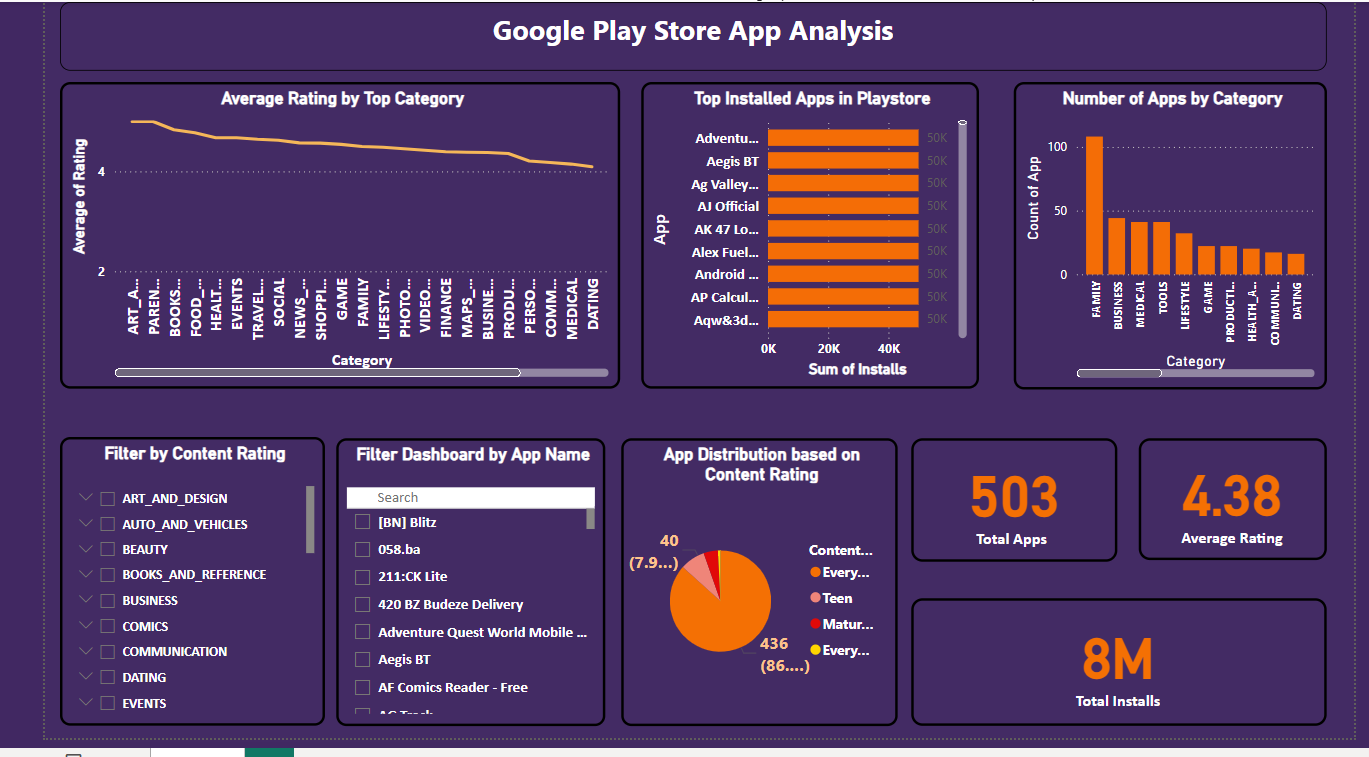

The dashboard page shown, as its layout file describes it:
{"tool":"powerbi","page":{"name":"Page 1","canvas":[1280,720],"ordinal":0},"visuals":[{"type":"barChart","title":"Top Installed Apps in Playstore","fields":{"Y":["Sum(Cleaned_playstore_data (2).Installs)"],"Category":["Cleaned_playstore_data (2).App"]},"box":[583.3,78.3,330,300],"z":0},{"type":"columnChart","title":"Number of Apps by Category","fields":{"Category":["Cleaned_playstore_data (2).Category"],"Y":["CountNonNull(Cleaned_playstore_data (2).App)"]},"box":[948.2,78.2,306,300.5],"z":1000},{"type":"lineChart","title":"Average Rating by Top Category","fields":{"Category":["Cleaned_playstore_data (2).Category"],"Y":["Avg(Cleaned_playstore_data (2).Rating)"]},"box":[15,78.3,548.3,300],"z":2000},{"type":"pieChart","title":"App Distribution based on  Content Rating","fields":{"Category":["Cleaned_playstore_data (2).Content Rating"],"Y":["CountNonNull(Cleaned_playstore_data (2).App)"]},"box":[564,426.8,270.3,281.3],"z":3000},{"type":"card","fields":{"Values":["CountNonNull(Cleaned_playstore_data (2).App)"]},"box":[848,426.8,201.7,120.8],"z":4000},{"type":"card","fields":{"Values":["Avg(Cleaned_playstore_data (2).Rating)"]},"box":[1070.3,426.8,183.9,119.4],"z":5000},{"type":"card","fields":{"Values":["Sum(Cleaned_playstore_data (2).Installs)"]},"box":[848,583.2,406.2,124.9],"z":6000},{"type":"slicer","title":"Filter by Content Rating","fields":{"Values":["Cleaned_playstore_data (2).Category","Cleaned_playstore_data (2).Content Rating"]},"box":[15.1,425.4,259.3,282.7],"z":7000},{"type":"slicer","title":"Filter Dashboard by App Name","fields":{"Values":["Cleaned_playstore_data (2).App"]},"box":[285.4,426.8,263.5,281.3],"z":8000},{"type":"textbox","box":[15.1,0,1239.1,67.2],"z":9000}]}

Visuals, with their boxes in screenshot pixels (x1, y1, x2, y2), scaled from the page's 1280x720 canvas onto the 1369x757 screenshot:
"Top Installed Apps in Playstore" barChart: {"left": 624, "top": 82, "right": 977, "bottom": 398}
"Number of Apps by Category" columnChart: {"left": 1014, "top": 82, "right": 1341, "bottom": 398}
"Average Rating by Top Category" lineChart: {"left": 16, "top": 82, "right": 602, "bottom": 398}
"App Distribution based on  Content Rating" pieChart: {"left": 603, "top": 449, "right": 892, "bottom": 744}
card - CountNonNull(Cleaned_playstore_data (2).App): {"left": 907, "top": 449, "right": 1123, "bottom": 576}
card - Avg(Cleaned_playstore_data (2).Rating): {"left": 1145, "top": 449, "right": 1341, "bottom": 574}
card - Sum(Cleaned_playstore_data (2).Installs): {"left": 907, "top": 613, "right": 1341, "bottom": 744}
"Filter by Content Rating" slicer: {"left": 16, "top": 447, "right": 293, "bottom": 744}
"Filter Dashboard by App Name" slicer: {"left": 305, "top": 449, "right": 587, "bottom": 744}
textbox: {"left": 16, "top": 0, "right": 1341, "bottom": 71}
